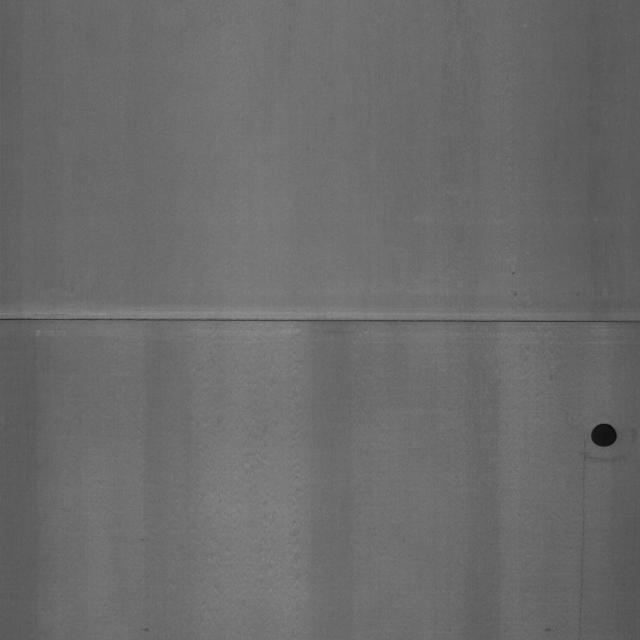crease: (2, 296, 640, 358)
crescent_gap: (582, 409, 626, 456)
